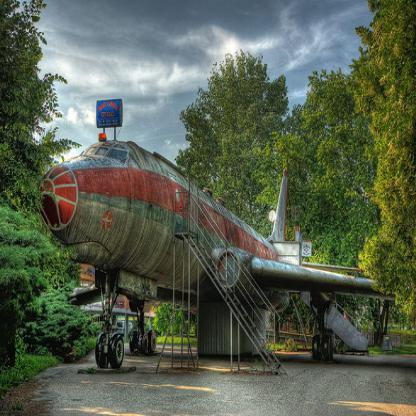CIV_Plane: (35, 132, 399, 371)
